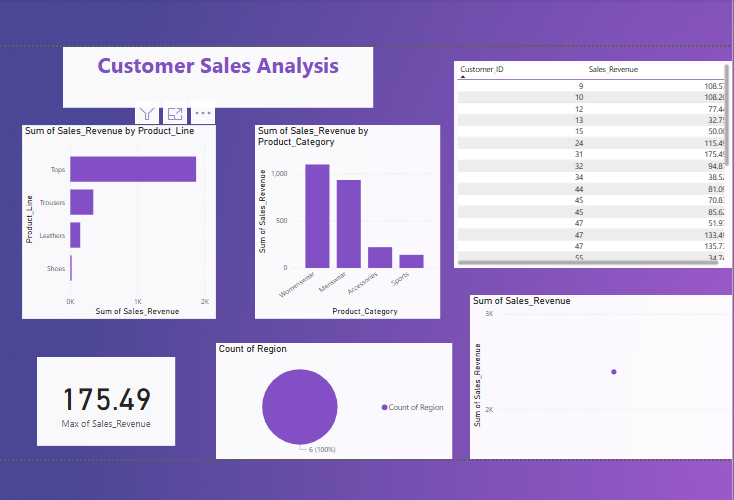

Layout of this report page (visuals, bound fields, positions):
{"tool":"powerbi","page":{"name":"Page 2","canvas":[1280,720],"ordinal":1},"visuals":[{"type":"clusteredColumnChart","fields":{"Category":["First model.Product_Category"],"Y":["Sum(First model.Sales_Revenue)"]},"box":[448.2,136,322.6,338.3],"z":0},{"type":"pieChart","fields":{"Y":["Count(Sales_Product_Details.Region)"]},"box":[380.2,516.2,411.6,204],"z":1000},{"type":"lineChart","fields":{"Y":["Sum(Sales_Product_Details.Sales_Revenue)"]},"box":[823.1,432.5,456.9,287.7],"z":2000},{"type":"clusteredBarChart","fields":{"Category":["First model.Product_Line"],"Y":["Sum(First model.Sales_Revenue)"]},"box":[41.9,136,338.3,338.3],"z":3000},{"type":"tableEx","fields":{"Values":["First model.Customer_ID","First model.Sales_Revenue"]},"box":[795.2,24.4,484.8,361],"z":4000},{"type":"card","fields":{"Values":["Max(Sales_Product_Details.Sales_Revenue)"]},"box":[68,540.6,240.7,155.2],"z":4001},{"type":"textbox","box":[113.4,0,540.6,106.4],"z":4002}]}

Visuals, with their boxes in screenshot pixels (x1, y1, x2, y2):
clusteredColumnChart - First model.Product_Category x Sum(First model.Sales_Revenue): box(255, 127, 438, 318)
pieChart - Count(Sales_Product_Details.Region): box(217, 342, 450, 457)
lineChart - Sum(Sales_Product_Details.Sales_Revenue): box(467, 294, 726, 457)
clusteredBarChart - First model.Product_Line x Sum(First model.Sales_Revenue): box(26, 127, 217, 318)
tableEx - First model.Customer_ID x First model.Sales_Revenue: box(452, 63, 726, 268)
card - Max(Sales_Product_Details.Sales_Revenue): box(40, 355, 176, 443)
textbox: box(66, 50, 372, 110)
